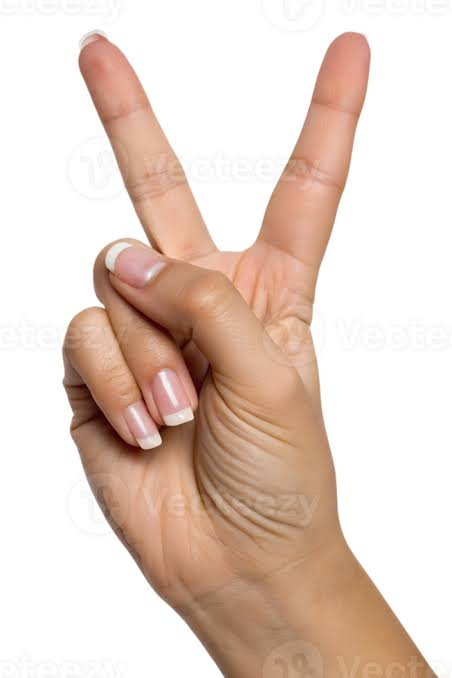peace_sign: (56, 18, 387, 566)
